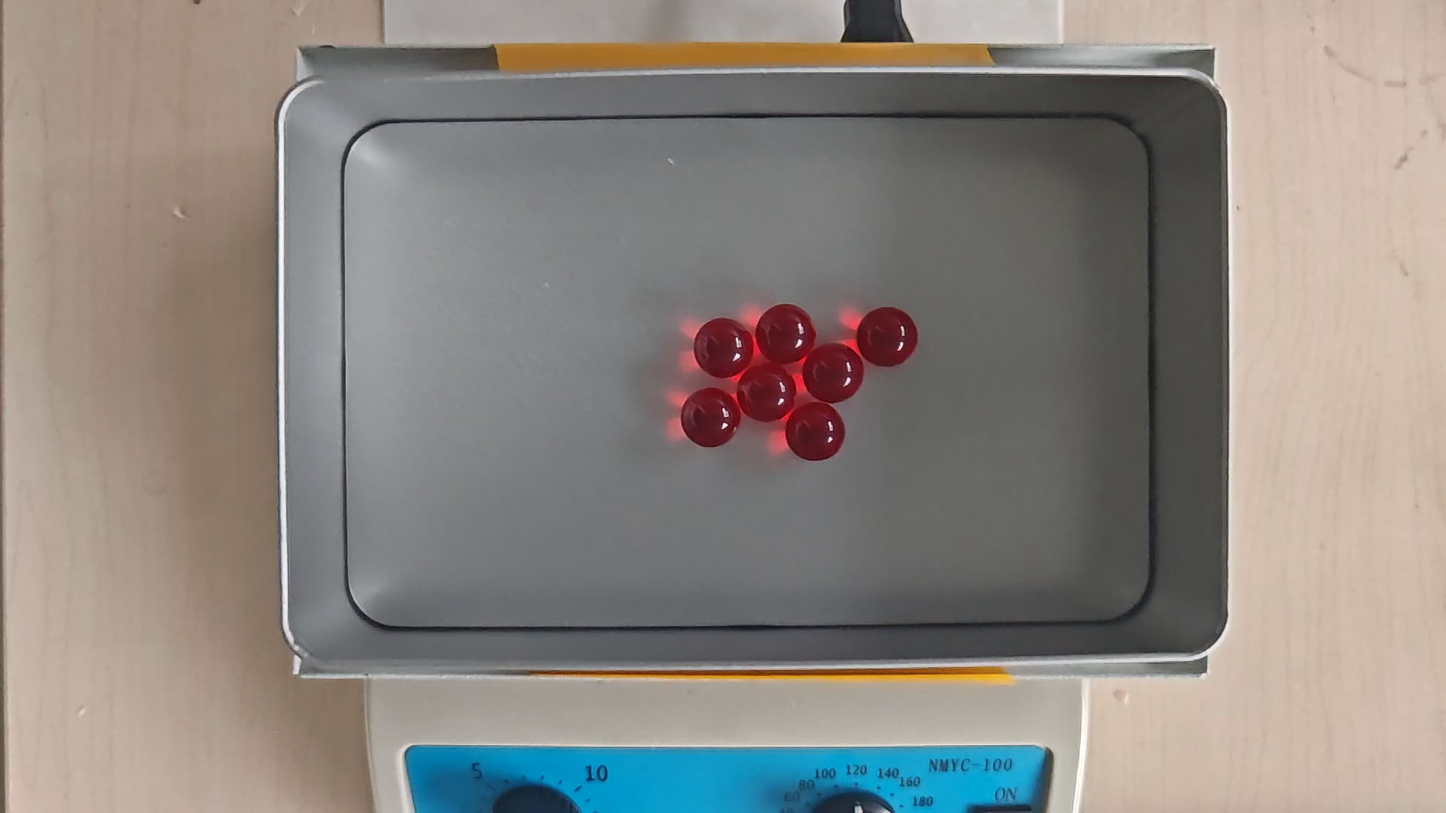ball: (682, 386, 739, 446), (695, 318, 752, 375), (859, 309, 915, 367), (739, 363, 795, 419), (806, 346, 864, 400), (788, 403, 845, 457), (759, 306, 813, 361)
container: (337, 114, 1152, 628)
